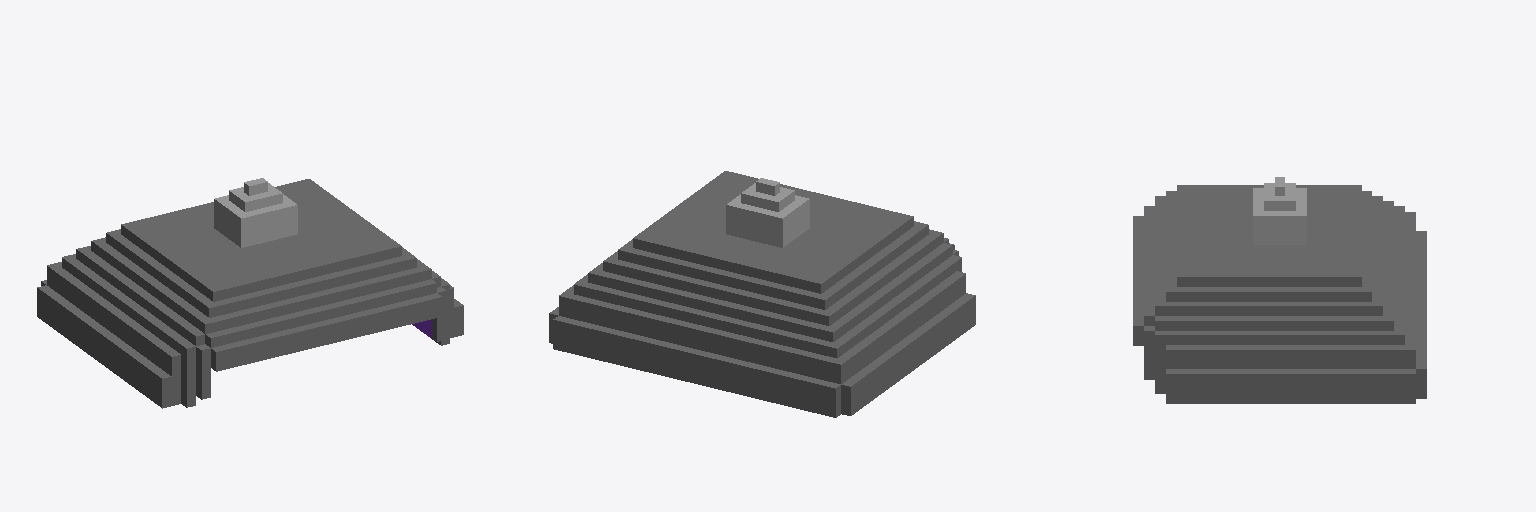
The picture shows the model from 3 angles: view 1: azimuth 30°, elevation 25°; view 2: azimuth 150°, elevation 25°; view 3: azimuth 270°, elevation 25°; orthographic projection.
Visible parts, largest first — view 1: EnemyHelmet; view 2: EnemyHelmet; view 3: EnemyHelmet.
Boxes of the visible parts, x1=… form: EnemyHelmet: x1=37, y1=178, x2=463, y2=408; EnemyHelmet: x1=549, y1=171, x2=975, y2=417; EnemyHelmet: x1=1133, y1=177, x2=1426, y2=403.
Bounding box in the file's own units: 3.2 × 1.5 × 2.7.
1 materials, 1 textured.